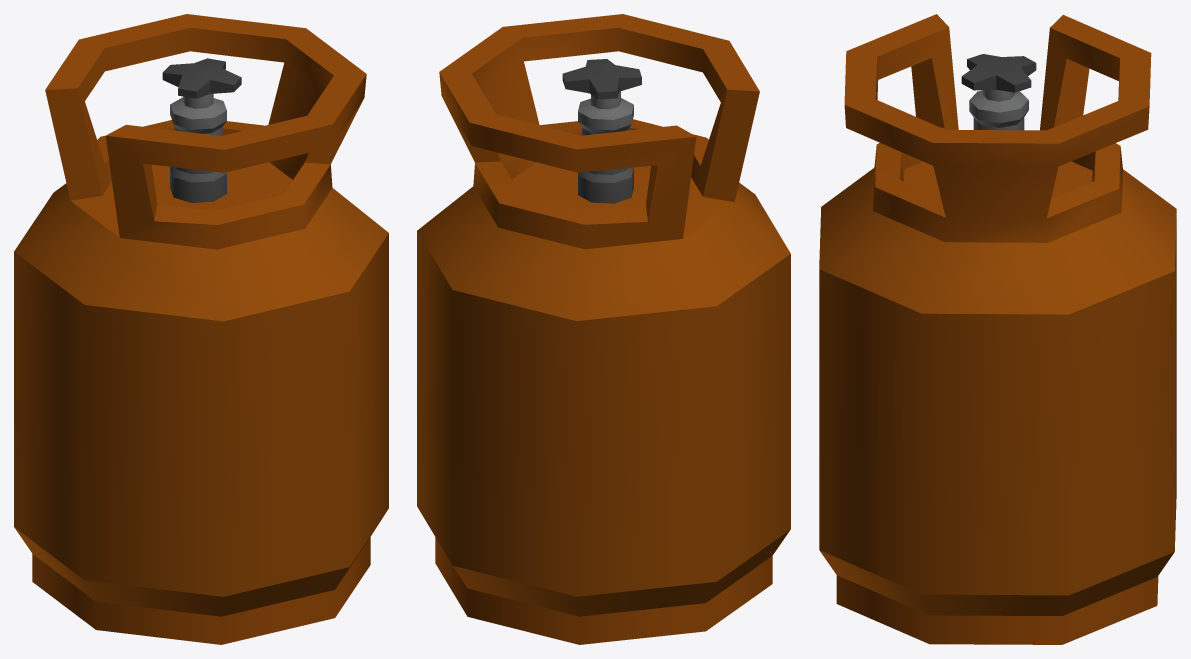
The model's file is GasCylinder_2_6.fbx.
The picture shows the model from 3 angles, left to right: view 1: azimuth 30°, elevation 25°; view 2: azimuth 150°, elevation 25°; view 3: azimuth 270°, elevation 25°; orthographic projection.
Parts seen in each view (by area): view 1: GasCylinder_2_6; view 2: GasCylinder_2_6; view 3: GasCylinder_2_6.
Part boxes in pixels (bbox=[...]): GasCylinder_2_6: bbox=[14, 14, 388, 644]; GasCylinder_2_6: bbox=[417, 14, 790, 644]; GasCylinder_2_6: bbox=[819, 14, 1176, 644].
Bounding box in the file's own units: 38.47 × 60.7 × 38.47.
